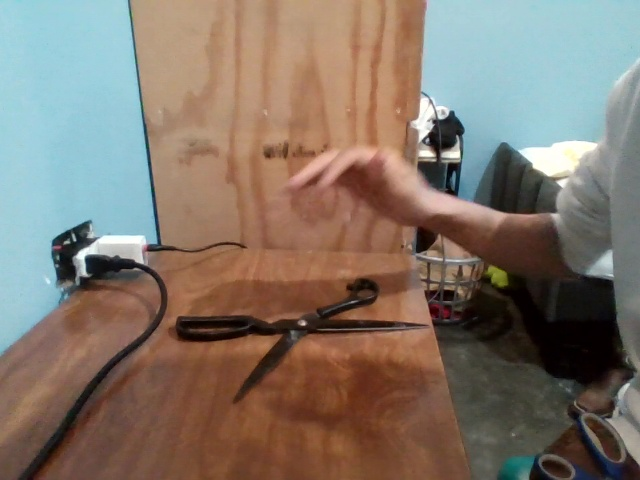tijeras: (174, 278, 412, 376)
